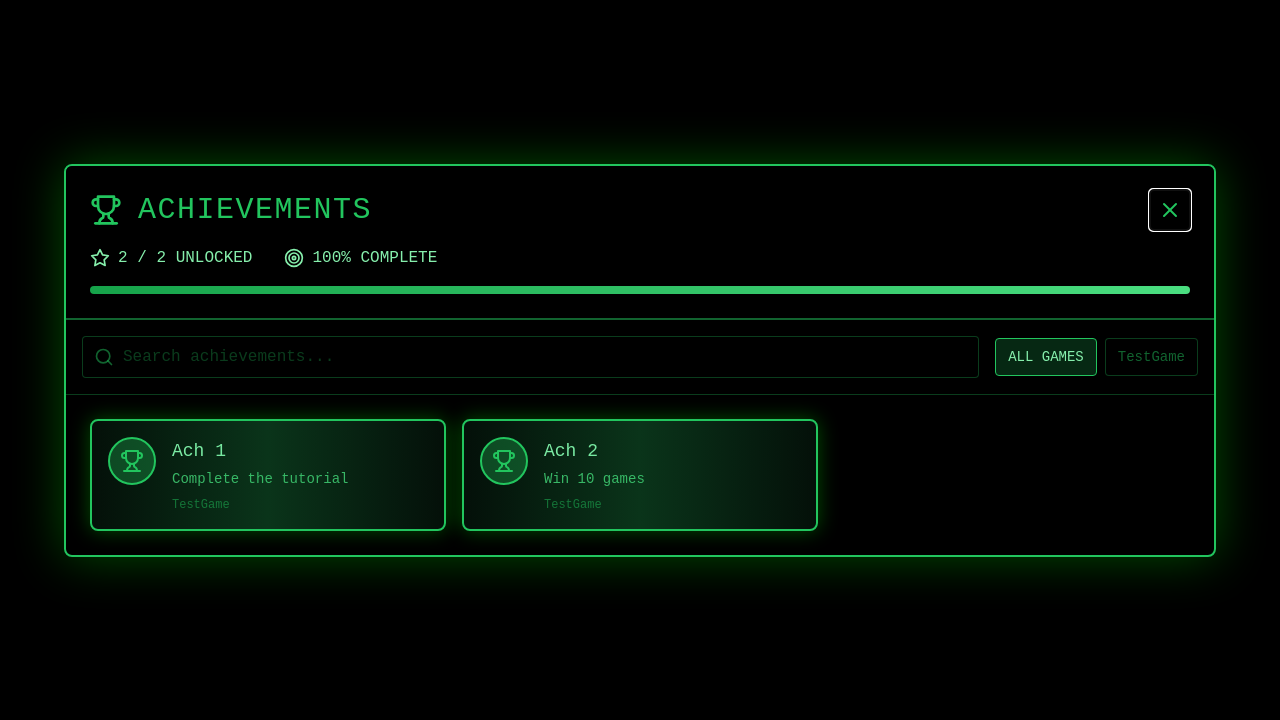
Test case: AchievementDisplay › Search Functionality › filters achievements by description
In the field with placeholder "Search achievements...": (531, 356) [82,336,979,378], type "tutorial"
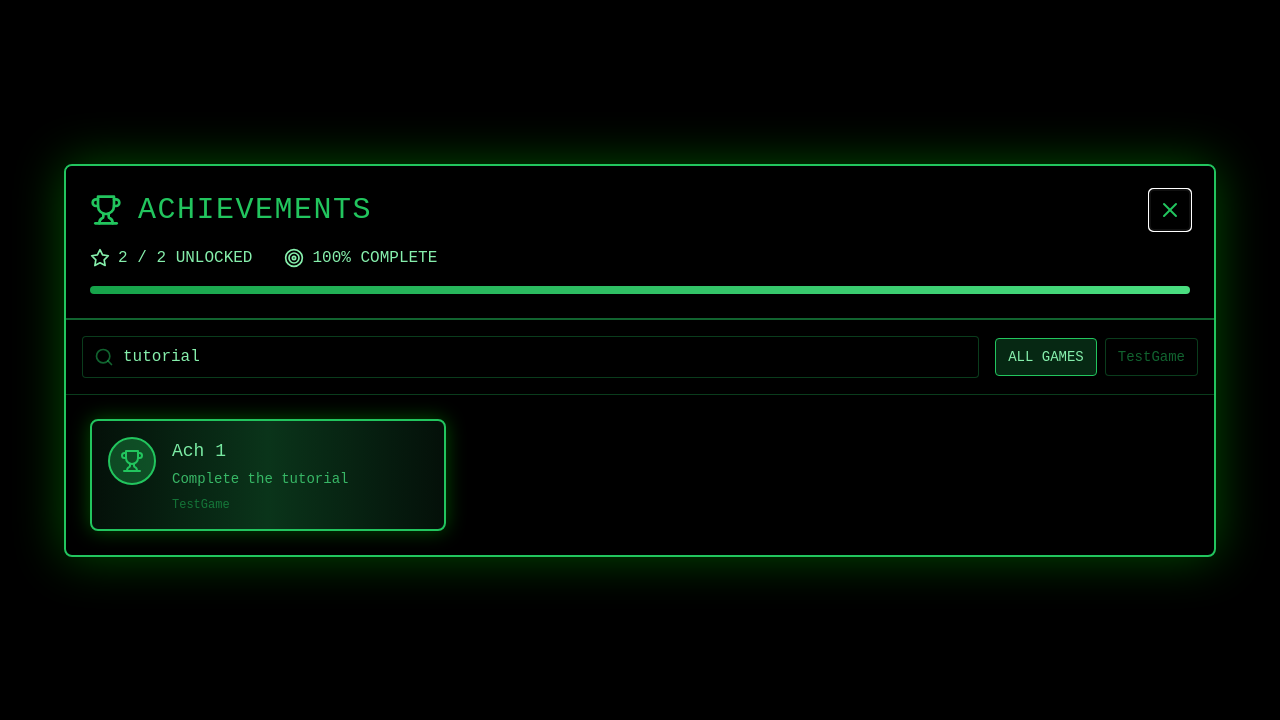
Expected: the heading "Ach 1" is shown, [172,440,226,460]
Now the heading "Ach 2" is gone
